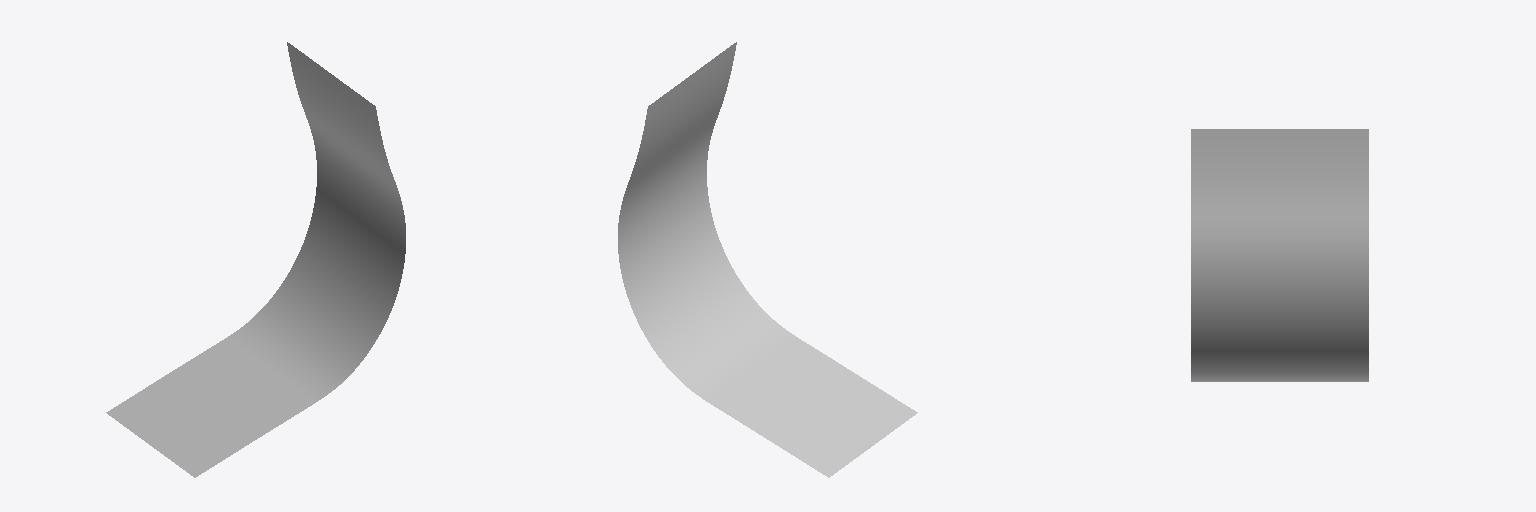
The model's file is Data_20100324_01_009.obj.
3 renders of one model, left to right at view 1: azimuth 30°, elevation 25°; view 2: azimuth 150°, elevation 25°; view 3: azimuth 270°, elevation 25°, orthographic.
Visible parts, largest first — view 1: mesh; view 2: mesh; view 3: mesh.
Part boxes in pixels (left/top/right/bottom): mesh: left=106, top=42, right=405, bottom=477; mesh: left=618, top=42, right=917, bottom=477; mesh: left=1191, top=129, right=1368, bottom=381.
Bounding box in the file's own units: 9295 × 13761 × 6816.